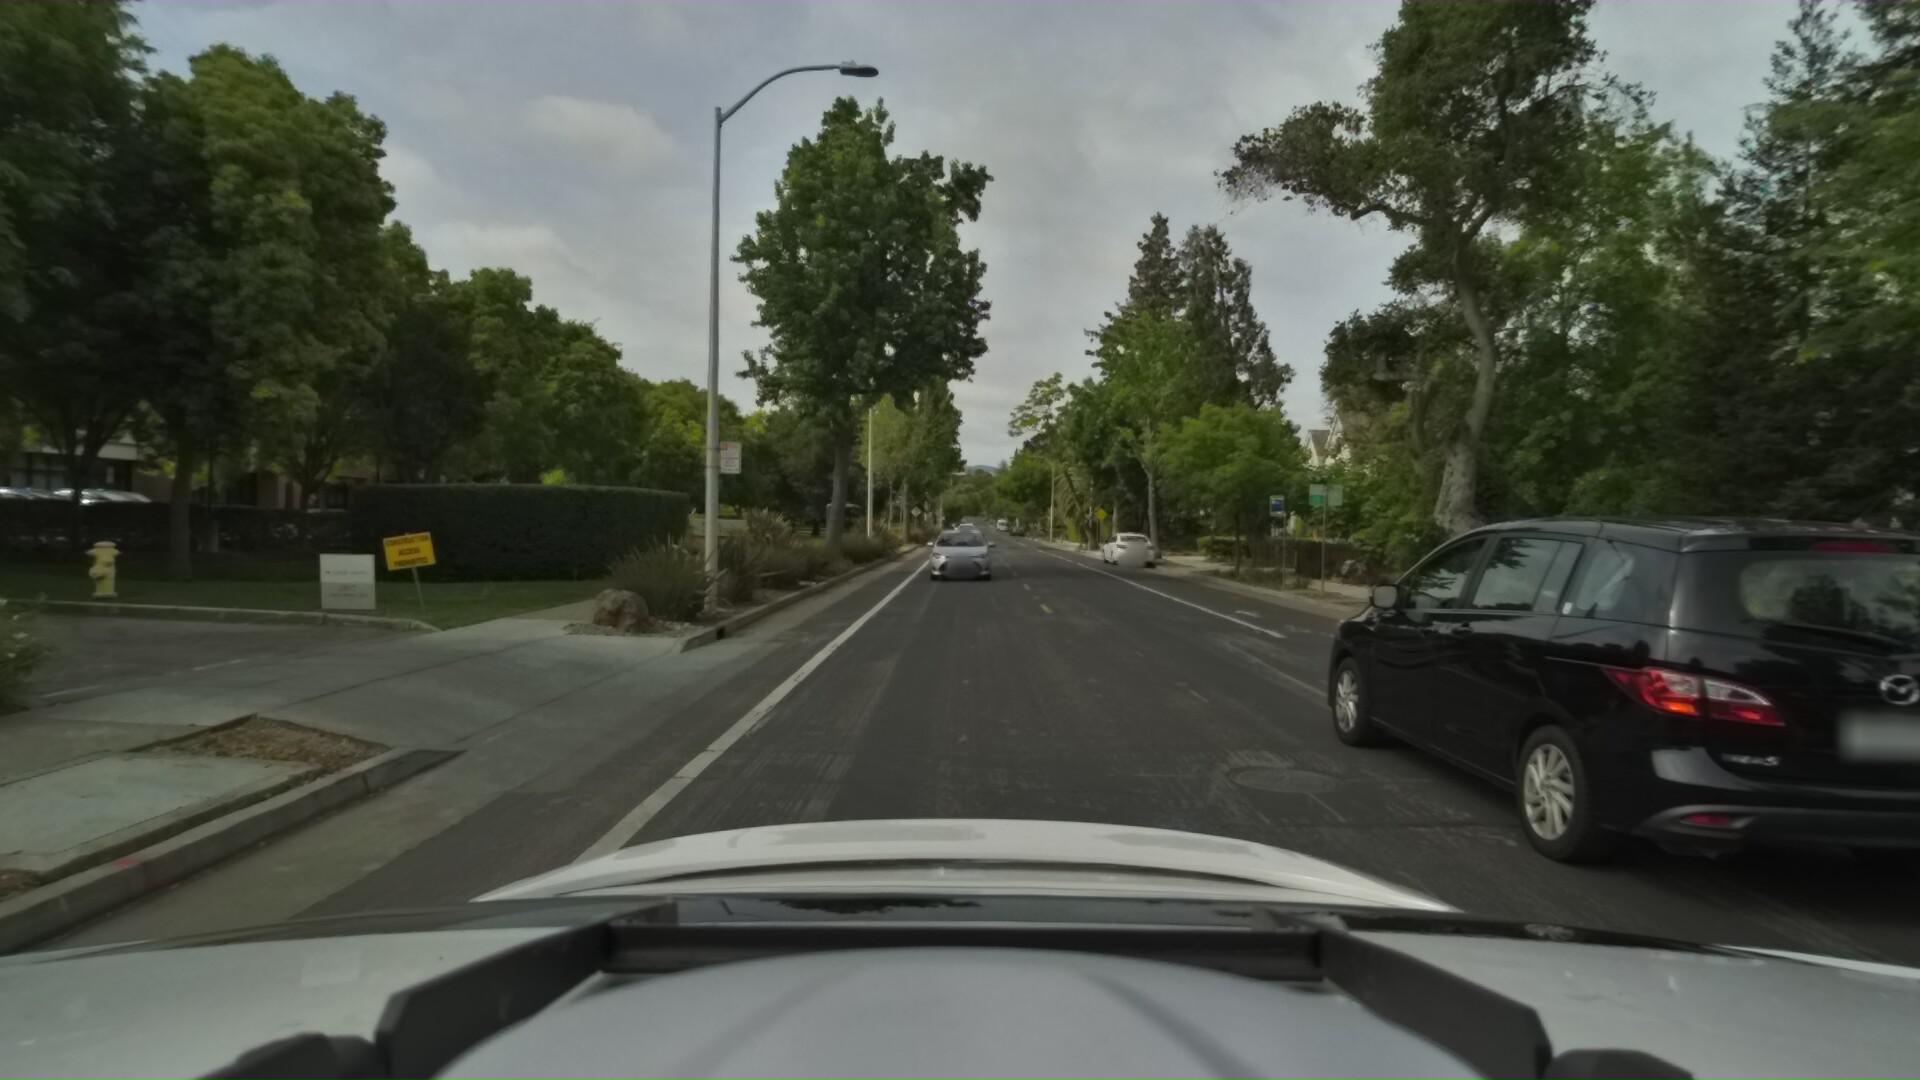car: (1265, 498, 1920, 862), (926, 524, 997, 582), (1095, 529, 1153, 564), (953, 521, 988, 551)
